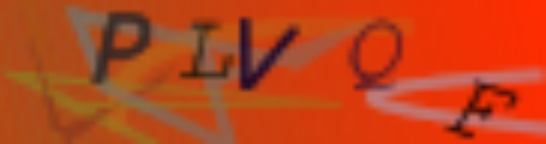F: (441, 79, 518, 141)
L: (178, 18, 235, 80)
P: (86, 10, 155, 85)
Q: (344, 18, 406, 94)
V: (235, 15, 305, 92)
